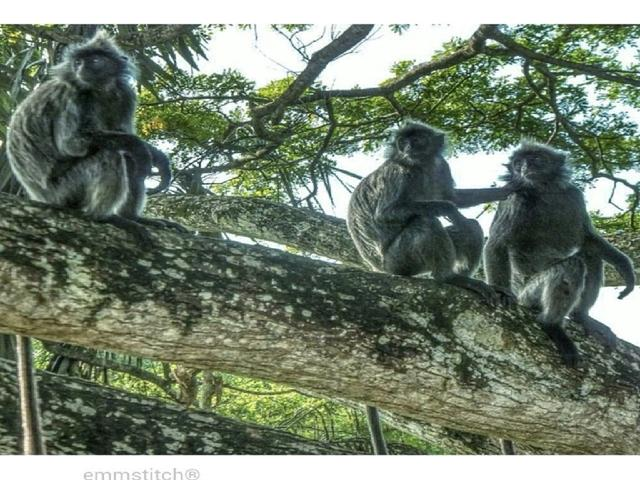monkey: (332, 117, 503, 302), (7, 32, 172, 217)
